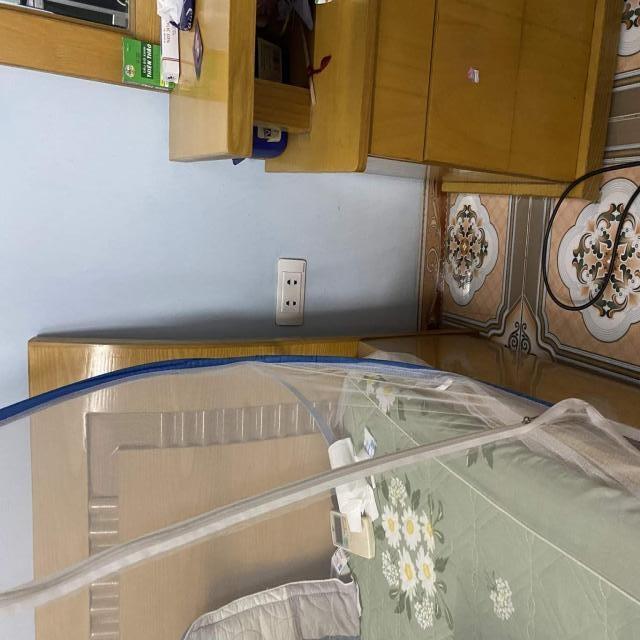outlet: (275, 258, 306, 326)
